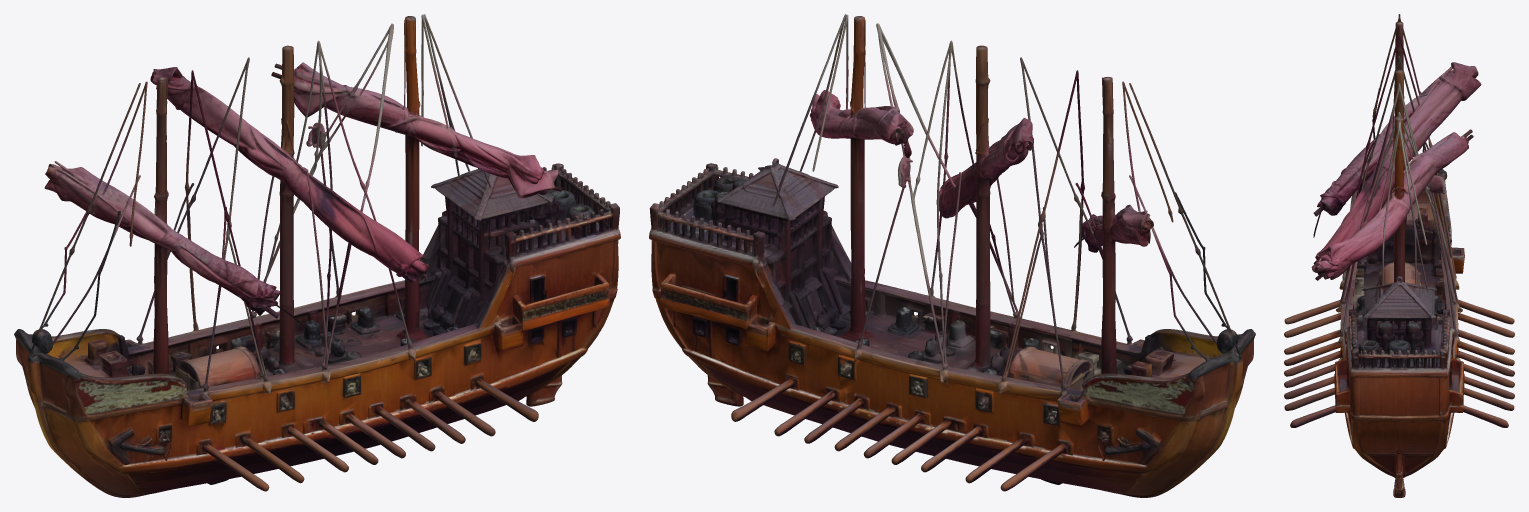
Rendered from thuyenchienxiem.glb.
The picture shows the model from 3 angles, left to right: view 1: azimuth 30°, elevation 25°; view 2: azimuth 150°, elevation 25°; view 3: azimuth 270°, elevation 25°; orthographic projection. The views are drawn at different scales.
Parts seen in each view (by area): view 1: node_0; view 2: node_0; view 3: node_0.
Boxes of the visible parts, x1=… form: node_0: x1=14, y1=14, x2=620, y2=497; node_0: x1=649, y1=14, x2=1255, y2=497; node_0: x1=1284, y1=14, x2=1514, y2=497.
Bounding box in the file's own units: 1.08 × 0.7634 × 0.488.
1 material, 1 textured.
